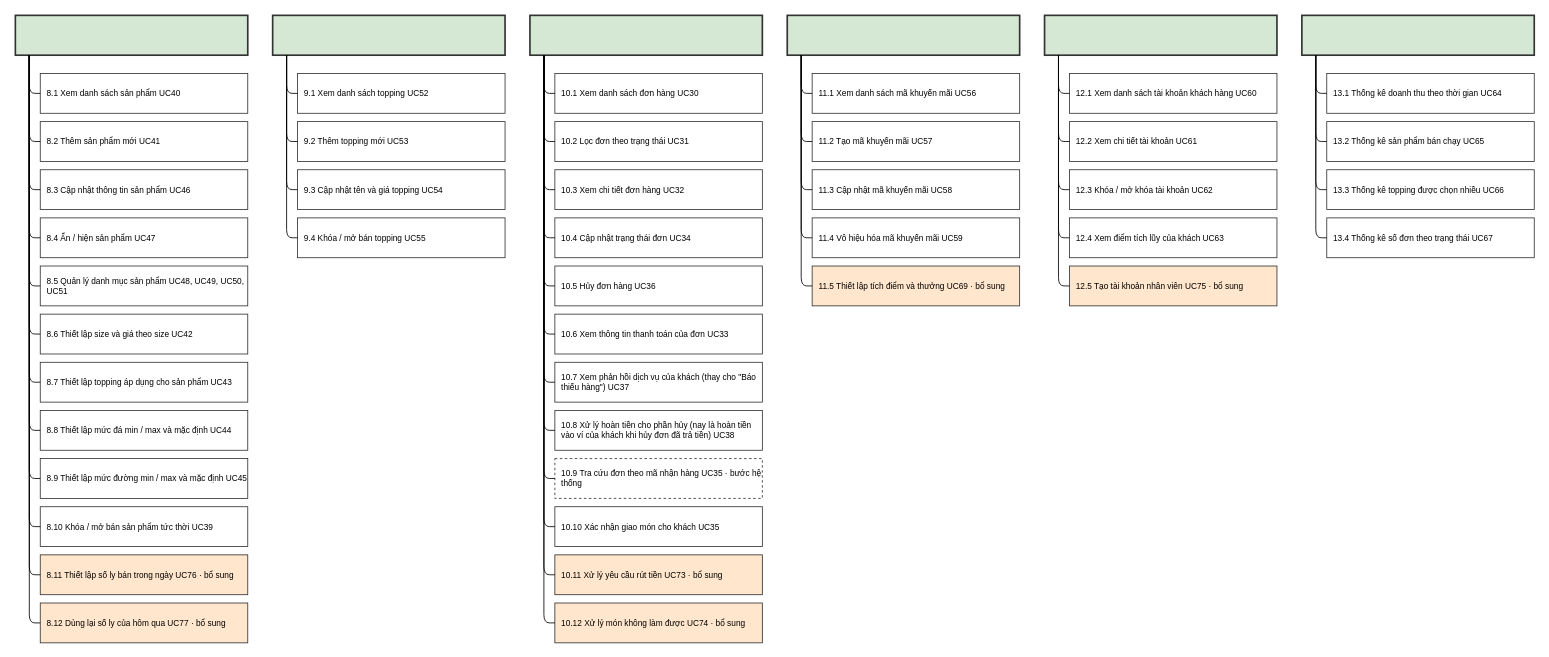
Image size: 1549x657. Some labels were removed from this diagram. The shapes that lost their labels are listed below. From the top down, each one's centre as x and y in pixels, then its label:
At (x=131, y=35): "8 Quản lý sản phẩm".
At (x=388, y=35): "9 Quản lý topping".
At (x=646, y=35): "10 Quản lý đơn hàng".
At (x=903, y=35): "11 Quản lý khuyến mãi".
At (x=1160, y=35): "12 Quản lý người dùng".
At (x=1418, y=35): "13 Thống kê báo cáo".
